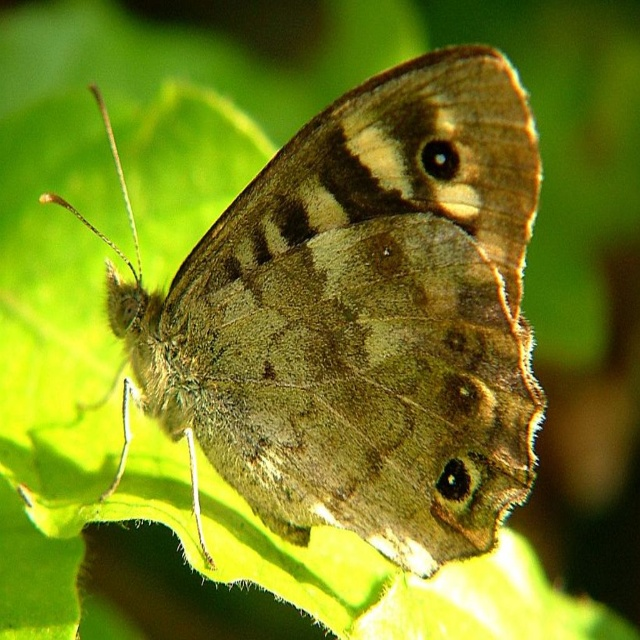Butterfly: (38, 40, 549, 570)
